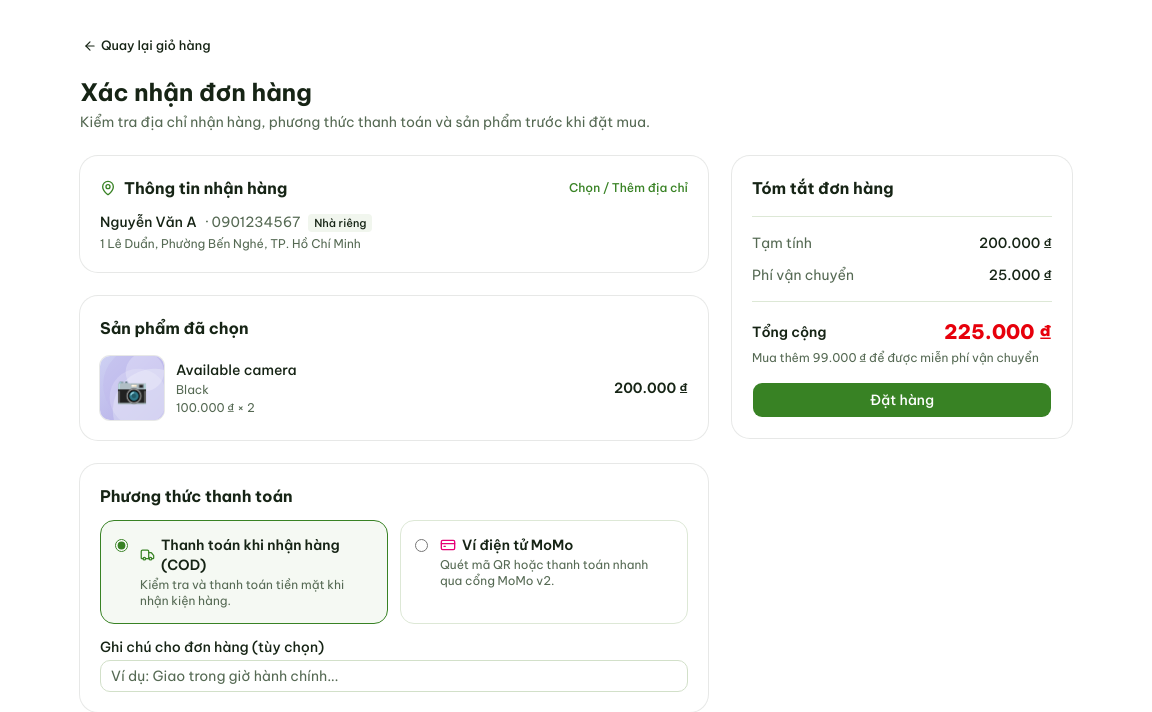
Test: OrderPreviewPage › locks submit button and displays changed SKUs banner with product name on 409 PRODUCT_SNAPSHOT_MISMATCH
Expected: the text "1 Lê Duẩn, Phường Bến Nghé, TP. Hồ Chí Minh" is shown, [100,236,361,251]
Click the button "Đặt hàng" at coordinates (902, 400), box [752,382,1052,418]
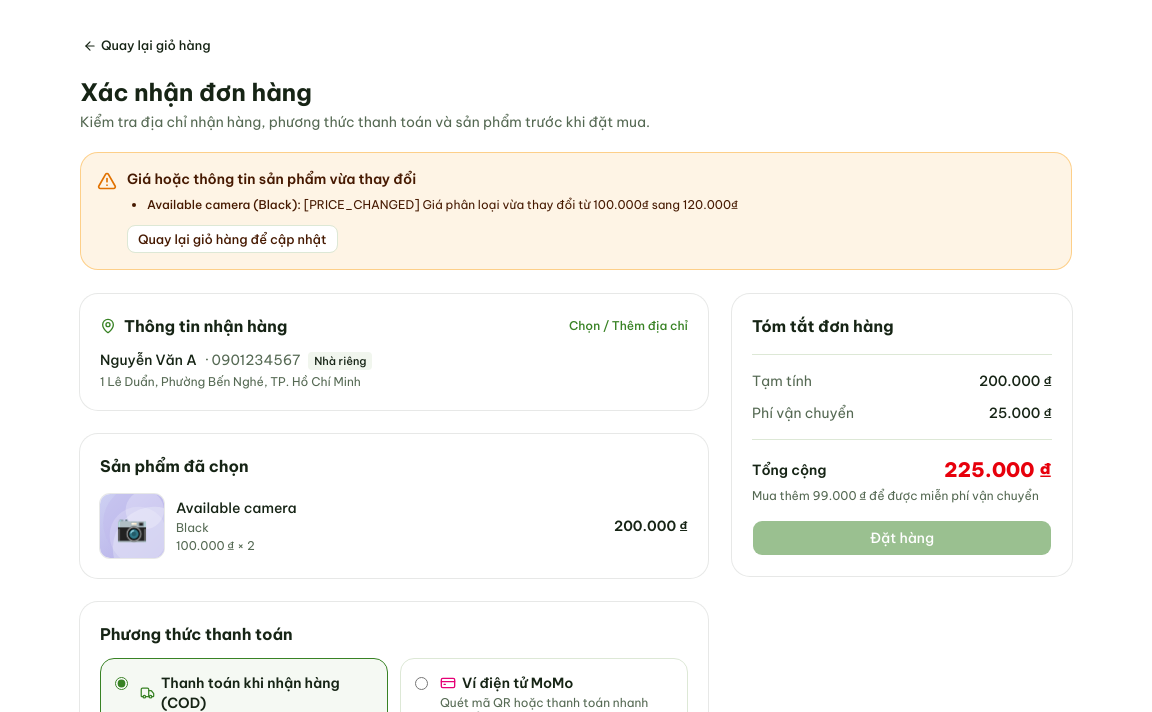
Expected: the message shows "Giá phân loại vừa thay đổi", [304,197,738,212]
Expected: the message shows "Available camera", [147,197,297,212]
Expected: the button "Đặt hàng" is disabled, [752,520,1052,556]
